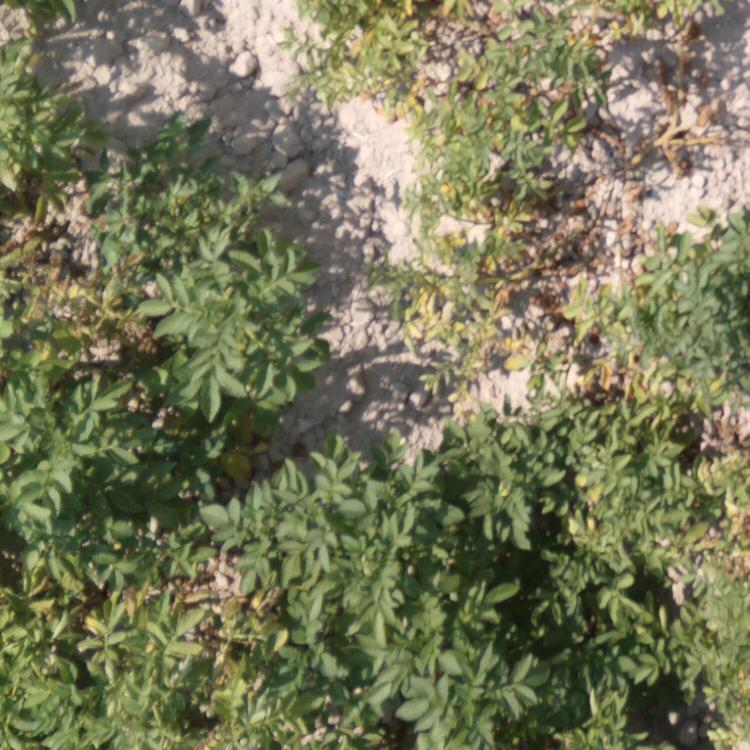healthy: (271, 453, 500, 750), (1, 502, 254, 750), (519, 574, 750, 741), (148, 166, 279, 387), (1, 376, 186, 486), (1, 21, 95, 190), (644, 235, 750, 354)
stressed: (421, 1, 601, 353), (519, 366, 750, 565), (1, 220, 128, 353), (623, 1, 695, 172), (306, 1, 414, 105)
